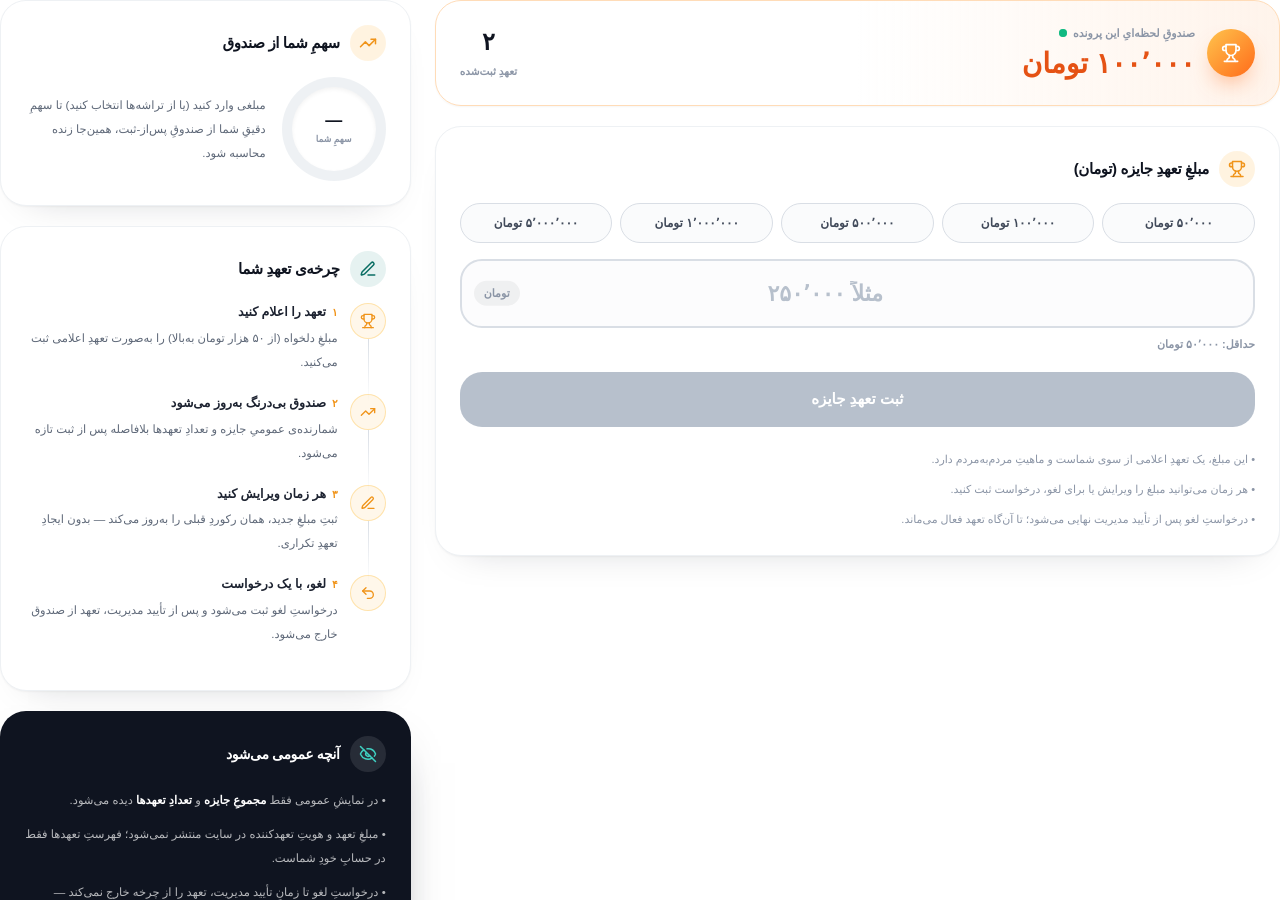
it: BountyPanel — ثبت موفق › POST دقیق + بنرِ موفقیت + شمارنده‌های تازه‌شده
Type "250,000" into the field at (857, 293), box [462,260,1253,326]
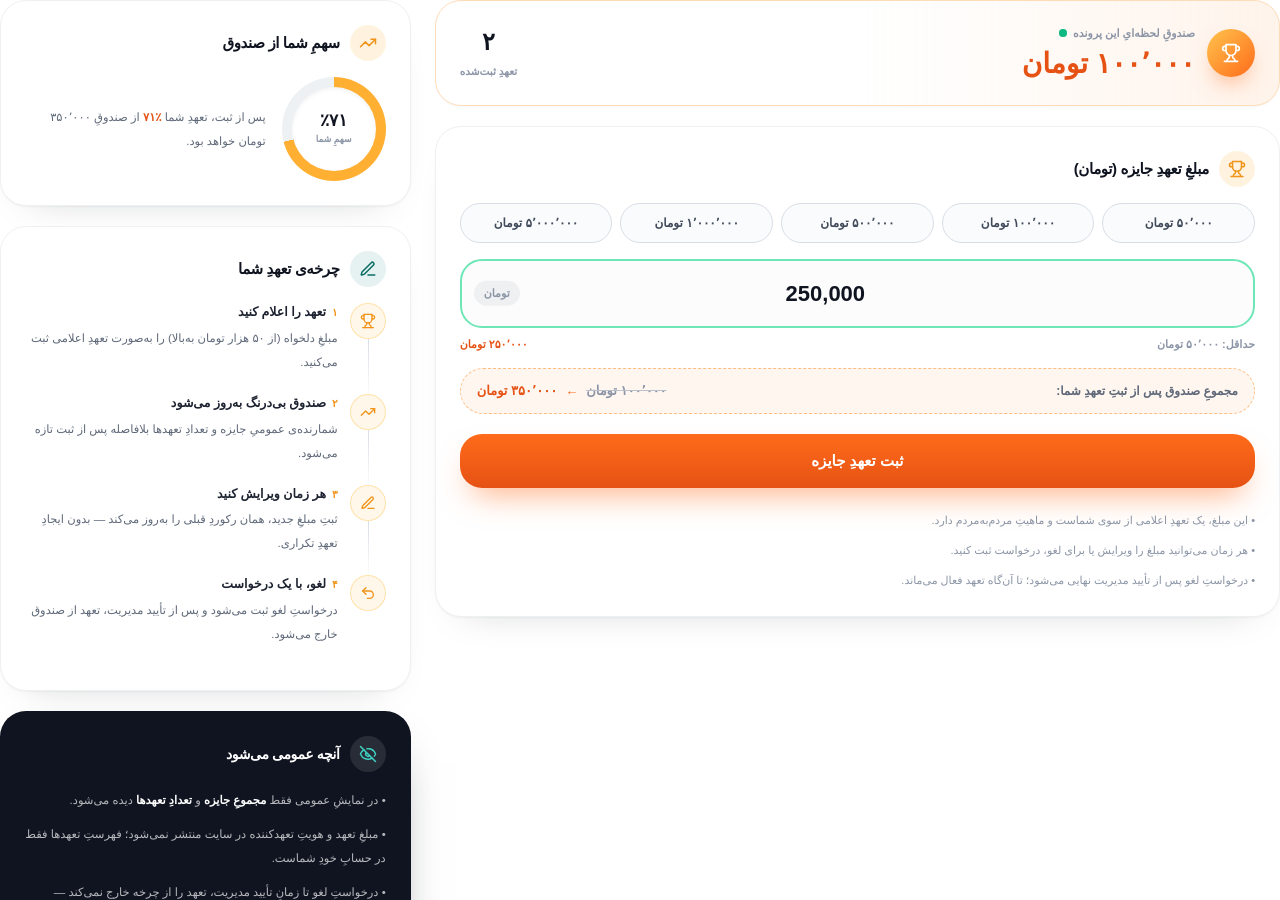
Click the button "ثبت تعهدِ جایزه" at (857, 461), box [460,434,1255,488]
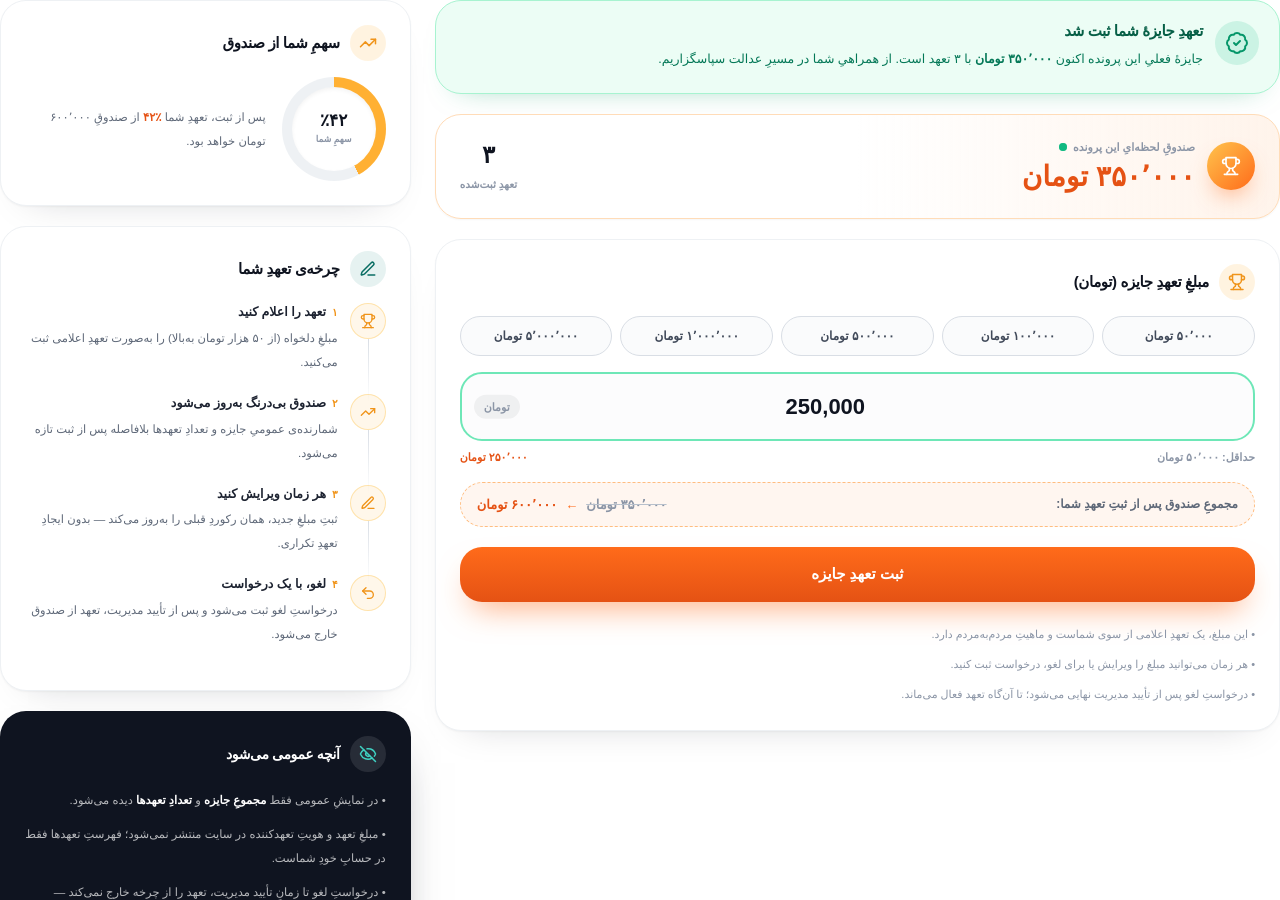
expect the heading "تعهدِ جایزهٔ شما ثبت شد" is shown: met, box [1064,22,1203,39]
